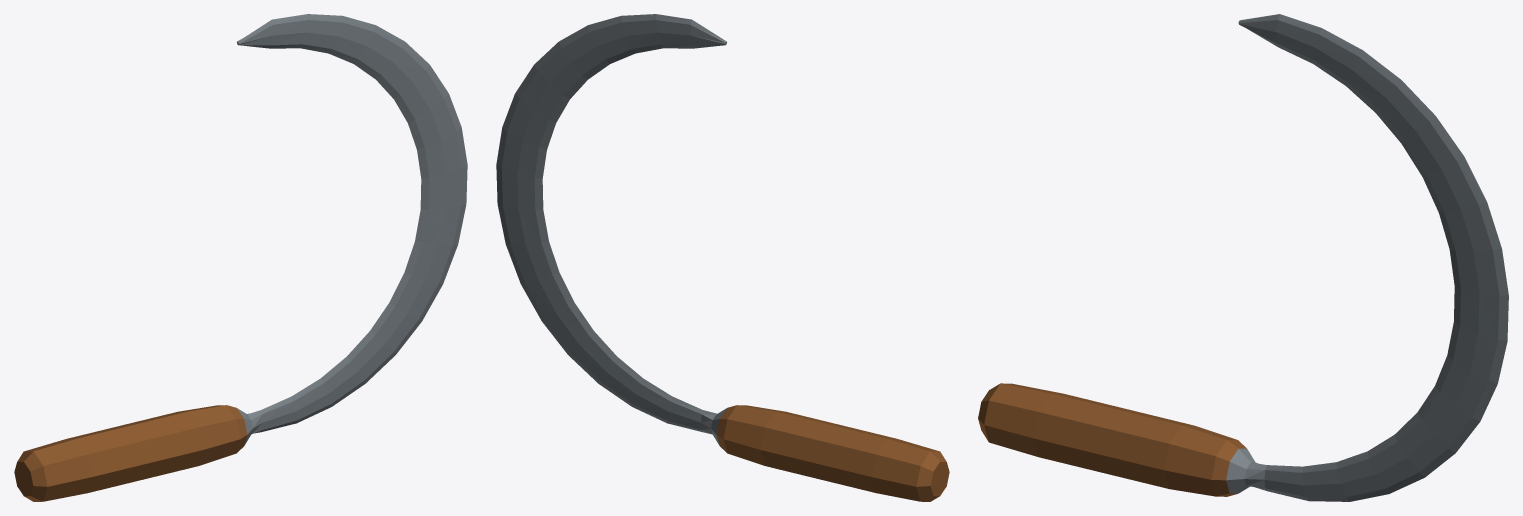
File: NEW_RECOVERY_075_LOD1.glb
3 renders of one model, left to right at view 1: azimuth 30°, elevation 25°; view 2: azimuth 150°, elevation 25°; view 3: azimuth 330°, elevation 25°, orthographic. The views are drawn at different scales.
Parts seen in each view (by area): view 1: Agricultural hand sickle; view 2: Agricultural hand sickle; view 3: Agricultural hand sickle.
Part boxes in pixels (x1,y1,x2,y2): Agricultural hand sickle: (14,14,467,501); Agricultural hand sickle: (496,14,949,501); Agricultural hand sickle: (978,14,1508,501).
Bounding box in the file's own units: 0.4586 × 0.4209 × 0.054.
